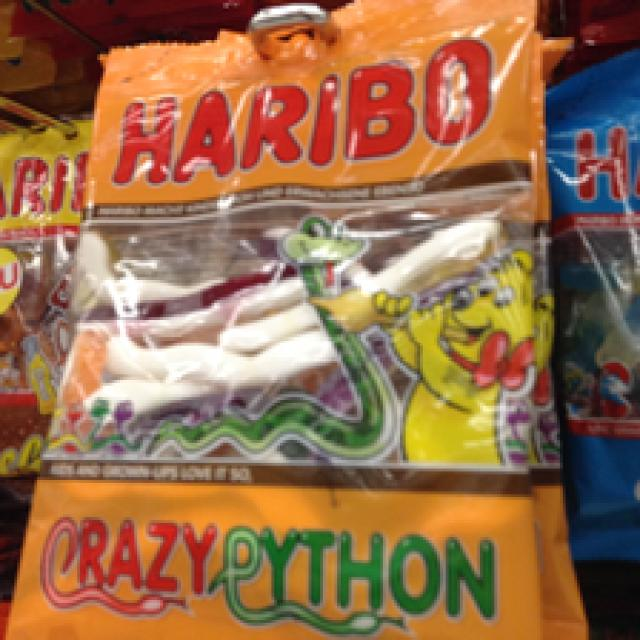groceries: (26, 6, 571, 634)
